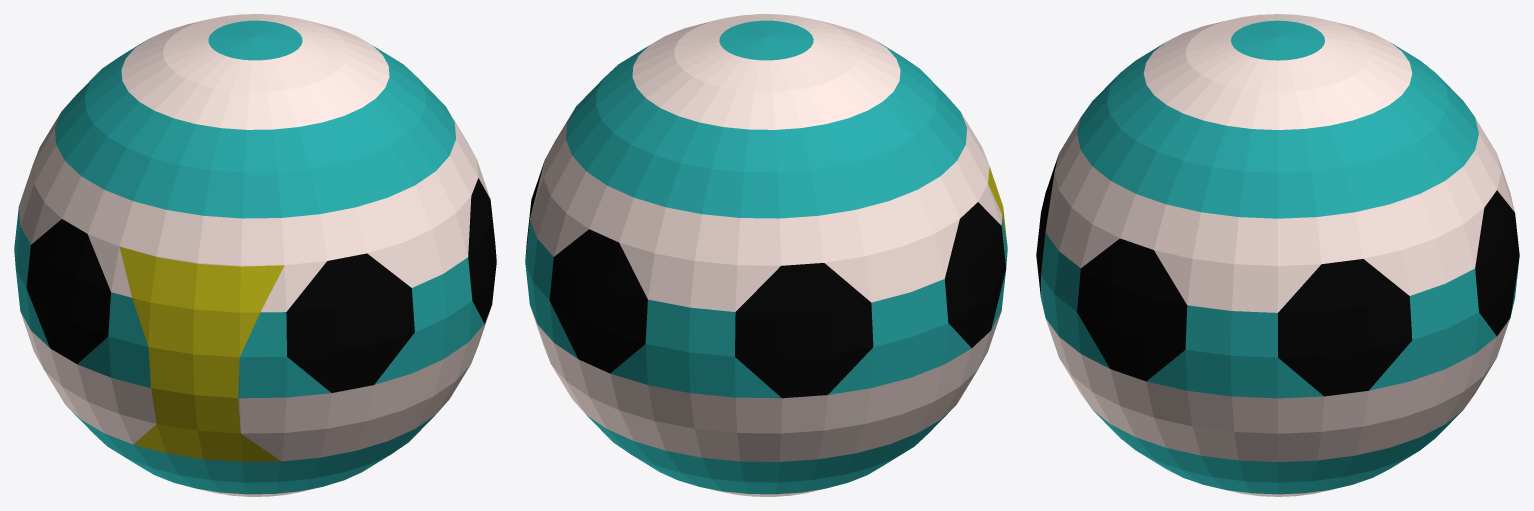
Rendered from Pelota.fbx.
The picture shows the model from 3 angles, left to right: view 1: azimuth 30°, elevation 25°; view 2: azimuth 150°, elevation 25°; view 3: azimuth 270°, elevation 25°; orthographic projection.
Visible parts, largest first — view 1: Sphere, Sphere.003, Sphere.002, Sphere.001, Sphere.005, Sphere.004, Sphere.006, Sphere.007; view 2: Sphere, Sphere.003, Sphere.002, Sphere.005, Sphere.004, Sphere.007, Sphere.006; view 3: Sphere, Sphere.003, Sphere.002, Sphere.005, Sphere.004, Sphere.007.
Boxes of the visible parts, x1,y1,x2,y2 form: Sphere: (19, 14, 490, 496); Sphere.003: (55, 41, 455, 218); Sphere.002: (26, 178, 496, 392); Sphere.001: (119, 246, 284, 461); Sphere.005: (14, 206, 484, 398); Sphere.004: (67, 406, 435, 494); Sphere.006: (87, 190, 327, 265); Sphere.007: (208, 20, 302, 60); Sphere: (530, 14, 1002, 496); Sphere.003: (566, 41, 966, 218); Sphere.002: (525, 161, 1006, 398); Sphere.005: (525, 216, 1007, 398); Sphere.004: (586, 406, 954, 494); Sphere.007: (719, 20, 813, 60); Sphere.006: (957, 128, 989, 201); Sphere: (1045, 14, 1514, 496); Sphere.003: (1077, 43, 1478, 218); Sphere.002: (1036, 155, 1519, 396); Sphere.005: (1041, 232, 1519, 398); Sphere.004: (1093, 410, 1462, 494); Sphere.007: (1231, 20, 1324, 60).
Size of the model in its own units: 200 by 200 by 200.
